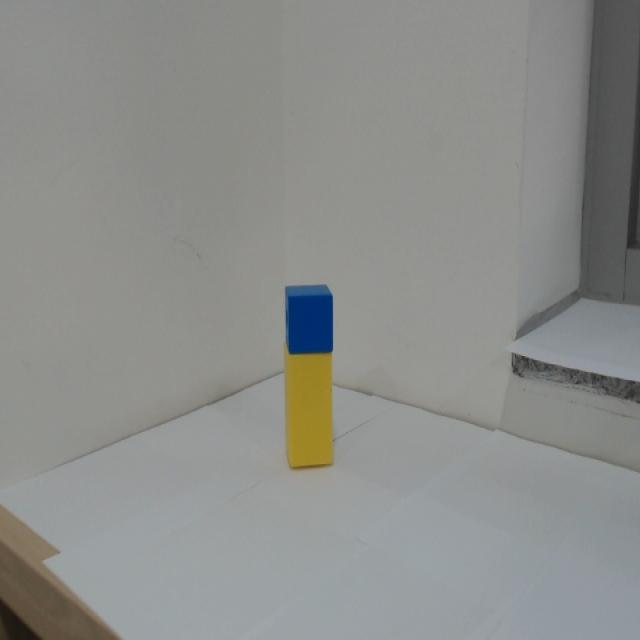cube: (283, 281, 333, 355)
